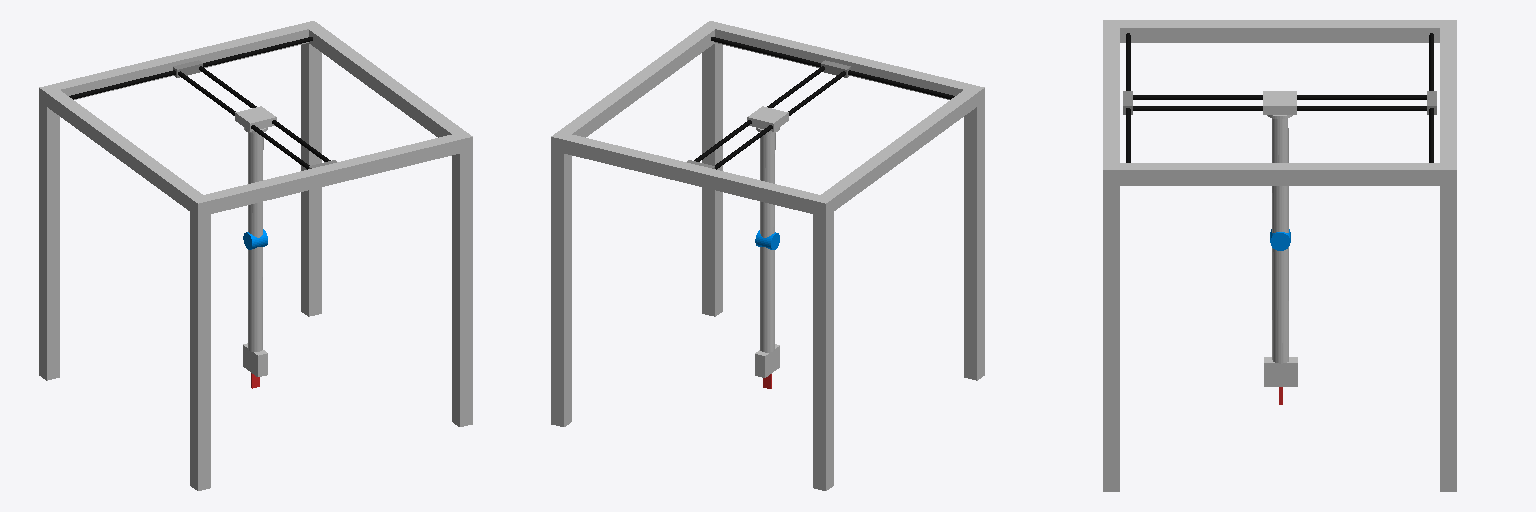
The robot description file, URDF, robot "testbot":
<robot name="testbot">
    <material name="metal_profile">
        <color rgba="0.8 0.8 0.8 1"/>
    </material>
    <material name="screw">
        <color rgba="0.1 0.1 0.1 1"/>
    </material>
    <material name="sledge">
        <color rgba="0.6 0.6 0.6 1"/>
    </material>
    <material name="arm_joint">
        <color rgba="0 0.6 1 1"/>
    </material>
    <material name="finger">
        <color rgba="0.9 0.2 0.2 1"/>
    </material>
    <link name="base_link">
        <visual>
            <origin xyz="-0.5 -0.5 0.5"/>
            <geometry>
                <box size="0.05 0.05 1"/>
            </geometry>
            <material name="metal_profile"/>
        </visual>
        <visual>
            <origin xyz="0.5 -0.5 0.5"/>
            <geometry>
                <box size="0.05 0.05 1"/>
            </geometry>
            <material name="metal_profile"/>
        </visual>
        <visual>
            <origin xyz="-0.5 0.5 0.5"/>
            <geometry>
                <box size="0.05 0.05 1"/>
            </geometry>
            <material name="metal_profile"/>
        </visual>
        <visual>
            <origin xyz="0.5 0.5 0.5"/>
            <geometry>
                <box size="0.05 0.05 1"/>
            </geometry>
            <material name="metal_profile"/>
        </visual>
        <visual>
            <origin xyz="0 -0.5 1.025"/>
            <geometry>
                <box size="1.05 0.05 0.05"/>
            </geometry>
            <material name="metal_profile"/>
        </visual>
        <visual>
            <origin xyz="0 0.5 1.025"/>
            <geometry>
                <box size="1.05 0.05 0.05"/>
            </geometry>
            <material name="metal_profile"/>
        </visual>
        <visual>
            <origin xyz="-0.5 0 1.025"/>
            <geometry>
                <box size="0.05 0.95 0.05"/>
            </geometry>
            <material name="metal_profile"/>
        </visual>
        <visual>
            <origin xyz="0.5 0 1.025"/>
            <geometry>
                <box size="0.05 0.95 0.05"/>
            </geometry>
            <material name="metal_profile"/>
        </visual>
        <visual>
            <origin xyz="0 0.45 1.025" rpy="0 1.57 0"/>
            <geometry>
                <cylinder radius="0.0075" length="0.9"/>
            </geometry>
            <material name="screw"/>
        </visual>
        <visual>
            <origin xyz="0 0.45 1.025" rpy="0 1.57 0"/>
            <geometry>
                <cylinder radius="0.0075" length="0.95"/>
            </geometry>
            <material name="screw"/>
        </visual>
        <visual>
            <origin xyz="0 -0.45 1.025" rpy="0 1.57 0"/>
            <geometry>
                <cylinder radius="0.0075" length="0.95"/>
            </geometry>
            <material name="screw"/>
        </visual>
    </link>
    <link name="rail_link">
        <visual>
            <origin xyz="0.04 0 0" rpy="1.57 0 0"/>
            <geometry>
                <cylinder radius="0.0075" length="0.92"/>
            </geometry>
            <material name="screw"/>
        </visual>
        <visual>
            <origin xyz="-0.04 0 0" rpy="1.57 0 0"/>
            <geometry>
                <cylinder radius="0.0075" length="0.92"/>
            </geometry>
            <material name="screw"/>
        </visual>
        <visual>
            <origin xyz="0 -0.45 0" rpy="0 0 0"/>
            <geometry>
                <box size="0.1 0.03 0.03"/>
            </geometry>
            <material name="sledge"/>
        </visual>
        <visual>
            <origin xyz="0 0.45 0" rpy="0 0 0"/>
            <geometry>
                <box size="0.1 0.03 0.03"/>
            </geometry>
            <material name="sledge"/>
        </visual>
    </link>
    <link name="arm_mount_link">
        <visual>
            <geometry>
                <box size="0.1 0.1 0.03"/>
            </geometry>
            <material name="metal_profile"/>
        </visual>
    </link>
    <link name="shoulder_link">
        <visual>
            <geometry>
                <cylinder radius="0.04" length="0.01"/>
            </geometry>
            <material name="metal_profile"/>
        </visual>
    </link>
    <link name="upperarm_link">
        <visual>
            <origin xyz="0 0 0.2"/>
            <geometry>
                <cylinder radius="0.025" length="0.4"/>
            </geometry>
            <material name="metal_profile"/>
        </visual>
        <visual>
            <origin xyz="0 0 0.4" rpy="0 1.57 0"/>
            <geometry>
                <cylinder radius="0.03" length="0.06"/>
            </geometry>
            <material name="arm_joint"/>
        </visual>
    </link>
    <link name="forearm_link">
        <visual>
            <origin xyz="0 0 0.2"/>
            <geometry>
                <cylinder radius="0.025" length="0.4"/>
            </geometry>
            <material name="metal_profile"/>
        </visual>
    </link>
    <link name="wrist_roll_link"/>
    <link name="gripper_link">
        <visual>
            <origin xyz="0 0 0.04"/>
            <geometry>
                <box size="0.04 0.1 0.08"/>
            </geometry>
            <material name="metal_profile"/>
        </visual>
    </link>
    <link name="right_finger_link">
        <visual>
            <origin xyz="0 0.0025 0.03"/>
            <geometry>
                <box size="0.03 0.005 0.06"/>
            </geometry>
            <material name="finger"/>
        </visual>
    </link>
    <link name="left_finger_link">
        <visual>
            <origin xyz="0 -0.0025 0.03"/>
            <geometry>
                <box size="0.03 0.005 0.06"/>
            </geometry>
            <material name="finger"/>
        </visual>
    </link>
    <joint name="x_rail_joint" type="prismatic">
        <origin xyz="0 0 1.025"/>
        <parent link="base_link"/>
        <child  link="rail_link"/>
        <axis   xyz="1 0 0"/>
        <limit lower="-0.425" upper="0.425" velocity="0.4" effort="100"/>
    </joint>
    <joint name="y_rail_joint" type="prismatic">
        <origin xyz="0 0 0"/>
        <parent link="rail_link"/>
        <child  link="arm_mount_link"/>
        <axis   xyz="0 1 0"/>
        <limit lower="-0.395" upper="0.395" velocity="0.4" effort="100"/>
    </joint>
    <joint name="mount_joint" type="continuous">
        <origin xyz="0 0 -0.03" rpy="3.145 0 0"/>
        <parent link="arm_mount_link"/>
        <child  link="shoulder_link"/>
        <axis   xyz="0 0 1"/>
        <limit  velocity="0.6" effort="50"/>
    </joint>
    <joint name="shoulder_joint" type="revolute">
        <origin xyz="0 0 0.01"/>
        <parent link="shoulder_link"/>
        <child  link="upperarm_link"/>
        <axis   xyz="1 0 0"/>
        <limit  lower="-1.57" upper="1.57" velocity="0.6" effort="40"/>
    </joint>
    <joint name="elbow_joint" type="revolute">
        <origin xyz="0 0 0.4"/>
        <parent link="upperarm_link"/>
        <child  link="forearm_link"/>
        <axis   xyz="1 0 0"/>
        <limit  lower="0" upper="1.57" velocity="0.6" effort="40"/>
    </joint>
    <joint name="wrist_roll_joint" type="continuous">
        <origin xyz="0 0 0.4"/>
        <parent link="forearm_link"/>
        <child  link="wrist_roll_link"/>
        <axis   xyz="0 0 1"/>
        <limit  velocity="0.6" effort="40"/>
    </joint>
    <joint name="wrist_flex_joint" type="revolute">
        <origin xyz="0 0 0"/>
        <parent link="wrist_roll_link"/>
        <child  link="gripper_link"/>
        <axis   xyz="0 1 0"/>
        <limit  lower="-1.2" upper="1.2" velocity="0.6" effort="40"/>
    </joint>
    <joint name="right_finger_joint" type="prismatic">
        <origin xyz="0 0 0.08"/>
        <parent link="gripper_link"/>
        <child  link="right_finger_link"/>
        <axis   xyz="0 1 0"/>
        <limit  lower="0" upper="0.05" velocity="0.6" effort="60"/>
    </joint>
    <joint name="left_finger_joint" type="prismatic">
        <origin xyz="0 0 0.08"/>
        <parent link="gripper_link"/>
        <child  link="left_finger_link"/>
        <axis   xyz="0 1 0"/>
        <mimic  joint="right_finger_joint" multiplier="-1"/>
        <limit  lower="-0.05" upper="0" velocity="0.6" effort="60"/>
    </joint>
</robot>

--- What the picture shows (computed from the rendered views, not written in the file) ---
Views: 3 orthographic renders of the robot side by side, from view 1: azimuth 30°, elevation 25°; view 2: azimuth 150°, elevation 25°; view 3: azimuth 270°, elevation 25°.
Model testbot with 10 links and 9 joints (3 revolute, 2 continuous, 4 prismatic), rooted at base_link, posed all joints at 0.
Visible links, largest first — view 1: base_link, rail_link, forearm_link, upperarm_link, arm_mount_link, gripper_link; view 2: base_link, rail_link, forearm_link, upperarm_link, arm_mount_link, gripper_link; view 3: base_link, rail_link, forearm_link, upperarm_link, gripper_link, arm_mount_link.
Boxes of the visible links, box(x1,y1,x2,y2) form: base_link: box(39, 21, 472, 490); rail_link: box(173, 60, 336, 169); forearm_link: box(248, 247, 262, 351); upperarm_link: box(243, 133, 267, 249); arm_mount_link: box(235, 106, 276, 131); gripper_link: box(243, 343, 267, 376); base_link: box(551, 21, 984, 490); rail_link: box(687, 60, 850, 169); forearm_link: box(760, 247, 774, 352); upperarm_link: box(755, 133, 779, 249); arm_mount_link: box(747, 106, 788, 131); gripper_link: box(755, 344, 779, 377); base_link: box(1103, 20, 1456, 491); rail_link: box(1123, 91, 1436, 114); forearm_link: box(1272, 247, 1288, 363); upperarm_link: box(1270, 118, 1290, 250); gripper_link: box(1264, 357, 1297, 386); arm_mount_link: box(1263, 91, 1296, 114).
Size in the robot's own frame: 1.05 by 1.05 by 1.05 metres.
Geometry: primitives only (box / cylinder / sphere), no mesh files.